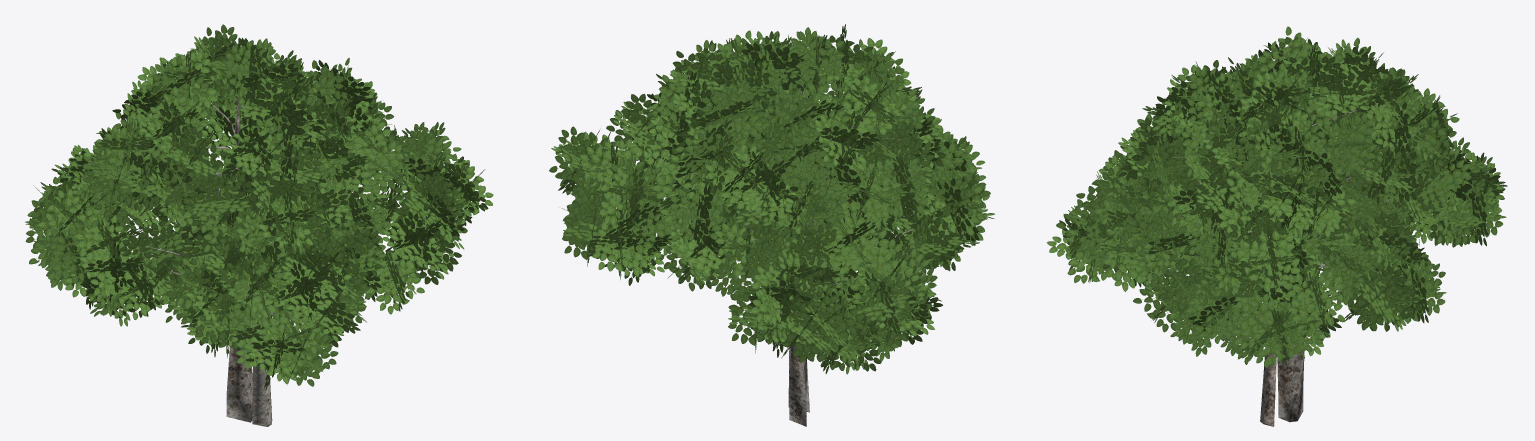
File: LOD_Tree.fbx
The picture shows the model from 3 angles, left to right: view 1: azimuth 30°, elevation 25°; view 2: azimuth 150°, elevation 25°; view 3: azimuth 270°, elevation 25°; orthographic projection. The views are drawn at different scales.
Parts seen in each view (by area): view 1: Tree_LOD_0; view 2: Tree_LOD_0; view 3: Tree_LOD_0.
Boxes of the visible parts, x1=… form: Tree_LOD_0: x1=25, y1=24, x2=493, y2=426; Tree_LOD_0: x1=549, y1=24, x2=994, y2=426; Tree_LOD_0: x1=1047, y1=26, x2=1507, y2=426.
Size of what is drawn, in the model's own units: 22.01 by 18.72 by 21.34.
